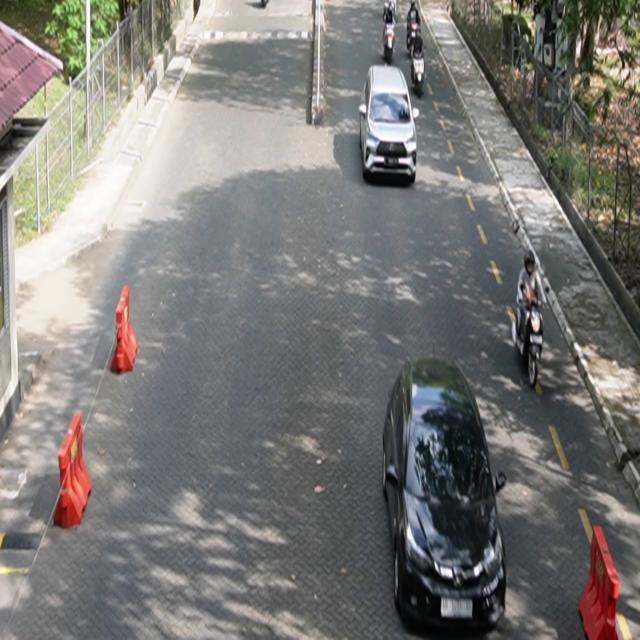car: (382, 356, 508, 634), (359, 65, 420, 185)
